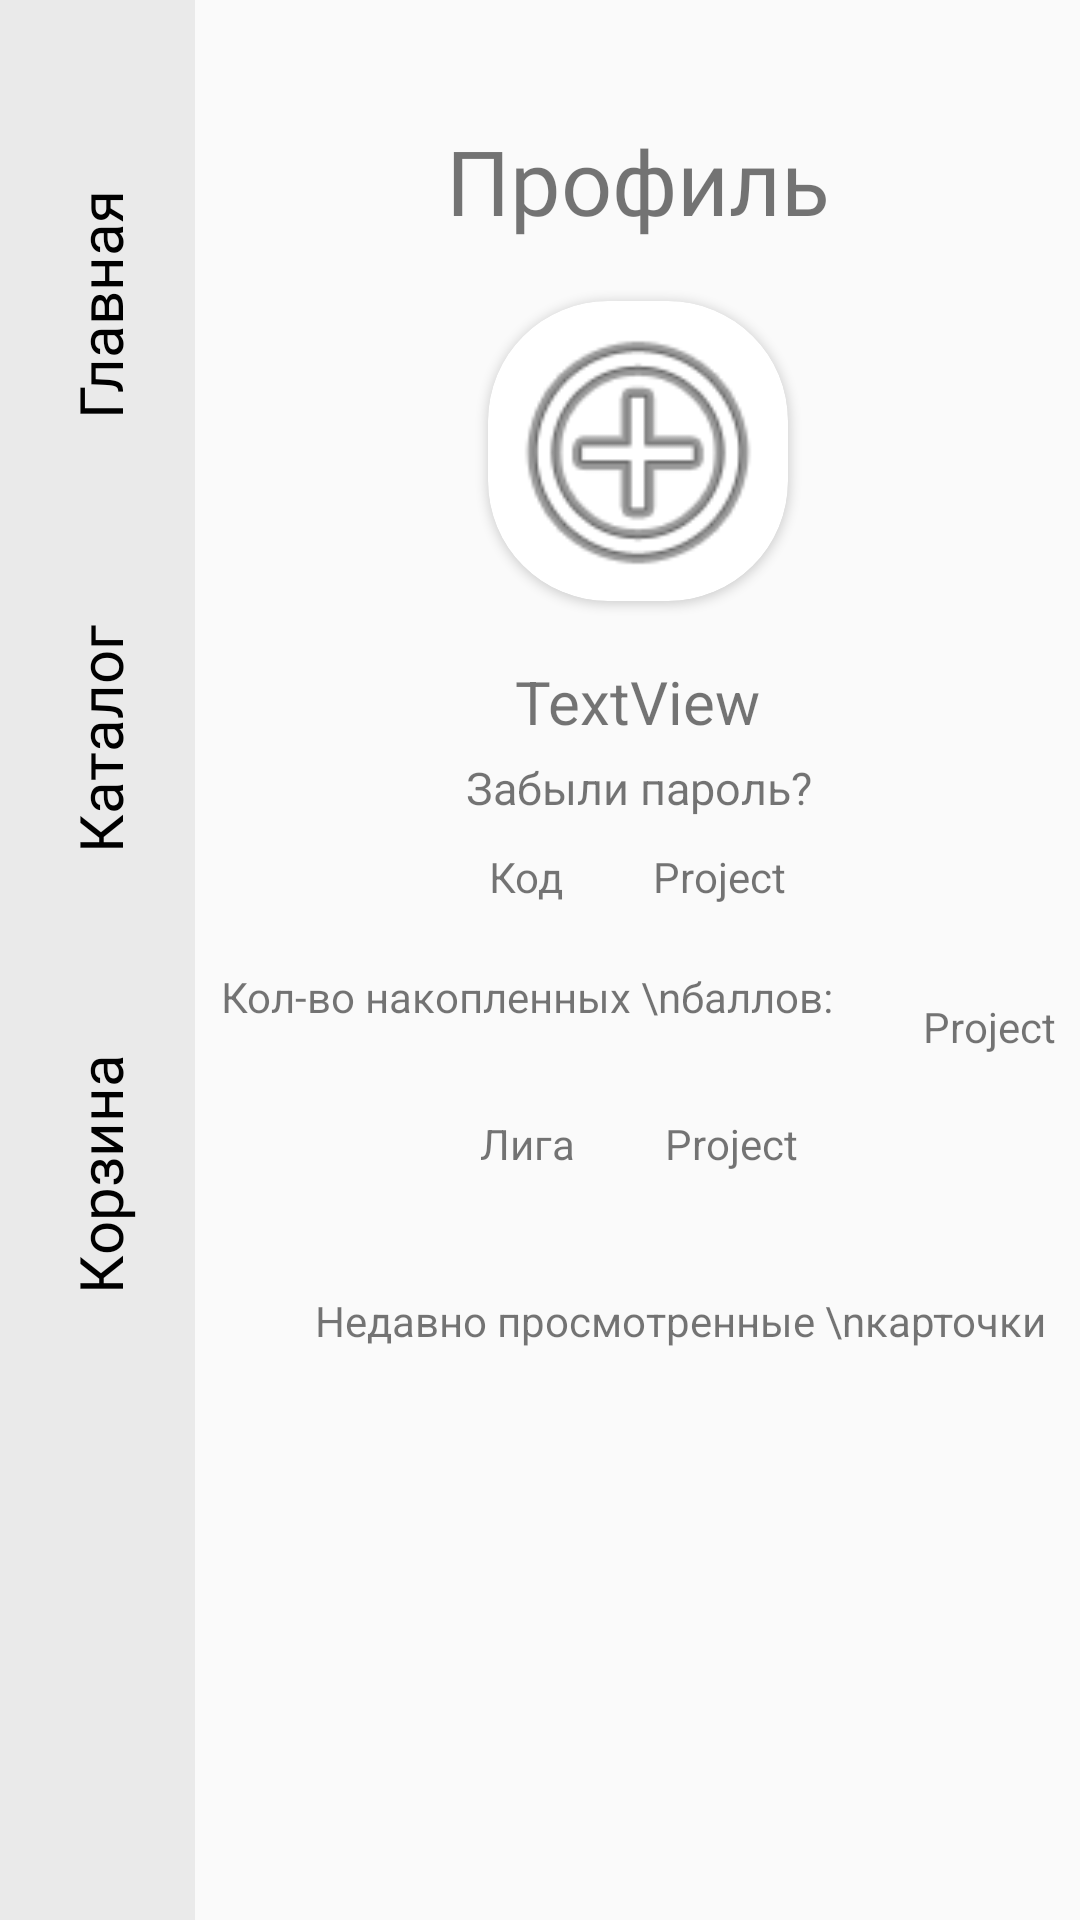

Screen size 1080w x 1920h. Icon name, then its center in pixels as point (x, y):
add: point (638, 471)
